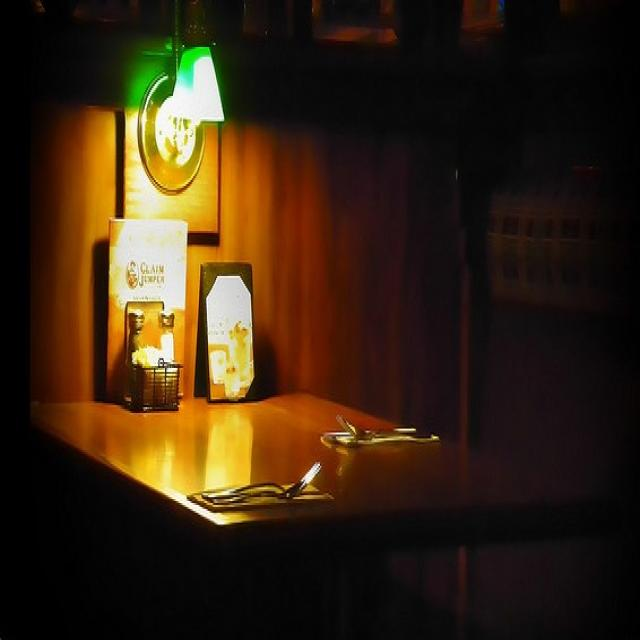Table: (34, 363, 570, 640)
